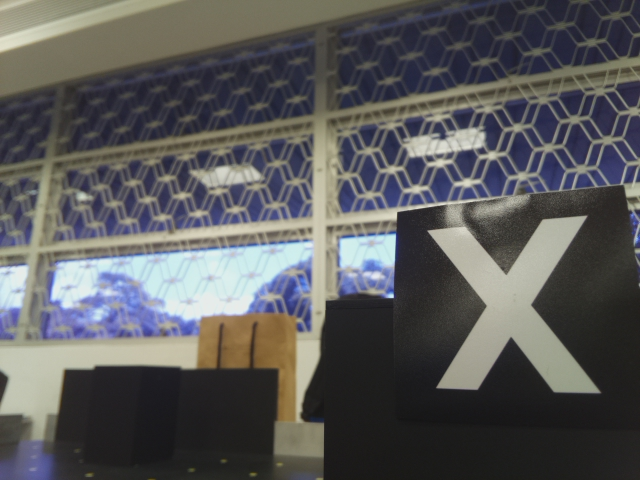x: (417, 220, 606, 404)
